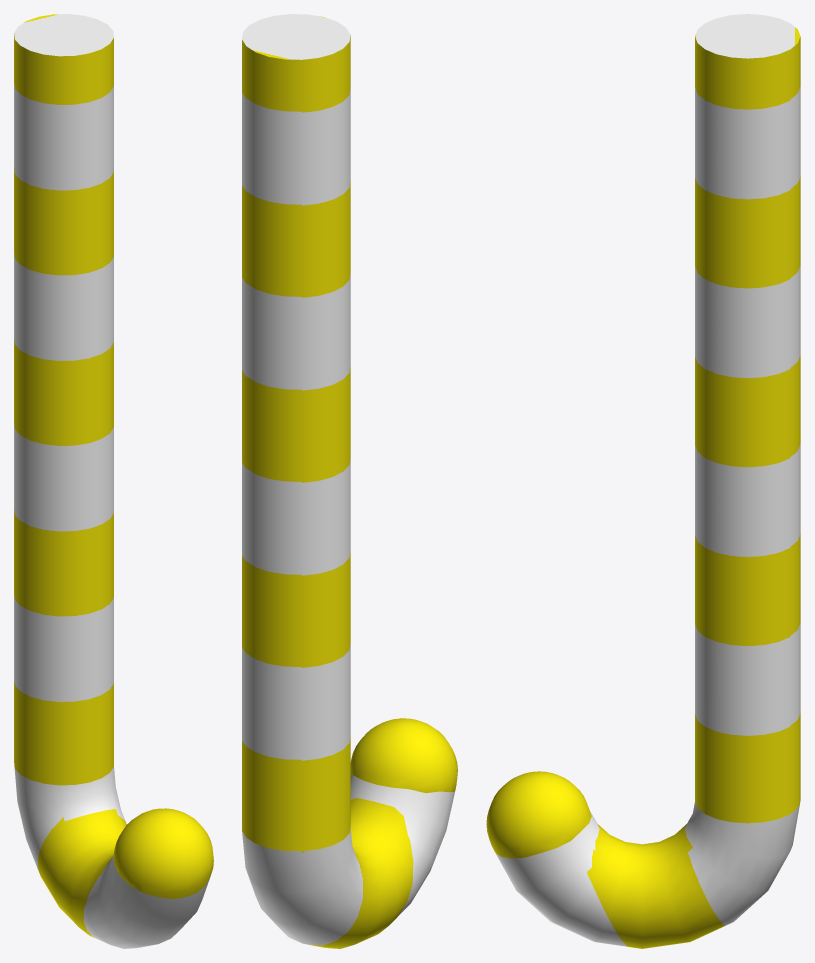
Rendered from yellowstick.fbx.
3 views of the same model, side by side, from view 1: azimuth 30°, elevation 25°; view 2: azimuth 150°, elevation 25°; view 3: azimuth 270°, elevation 25° (orthographic). The views are drawn at different scales.
Visible parts, largest first — view 1: pSphere3; view 2: pSphere3; view 3: pSphere3.
Part boxes in pixels (x1,y1,x2,y2): pSphere3: [14, 14, 213, 948]; pSphere3: [242, 14, 457, 948]; pSphere3: [486, 14, 800, 948].
Bounding box in the file's own units: 2.01 × 19 × 5.95.
1 material, 1 textured.
